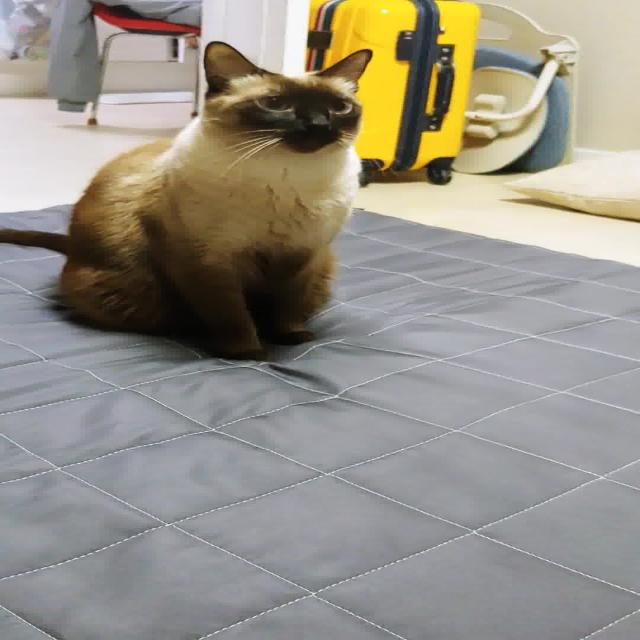cat: (1, 33, 386, 374)
